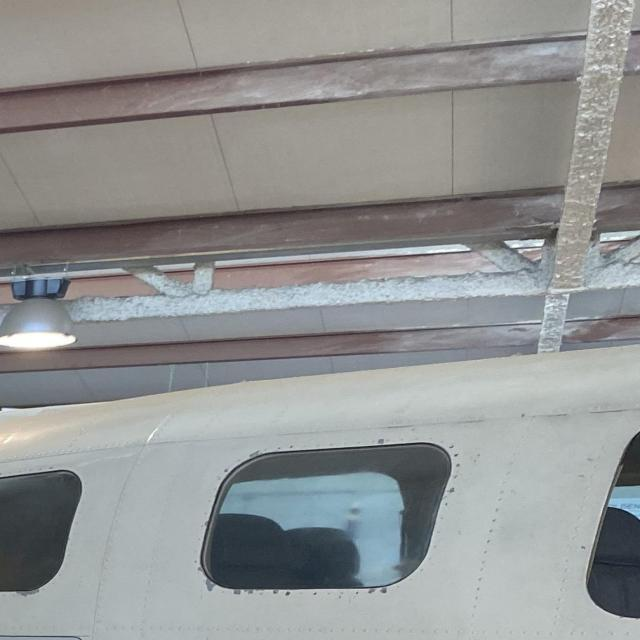Paint-off: (16, 589, 40, 596), (248, 449, 262, 458), (376, 436, 388, 446)
